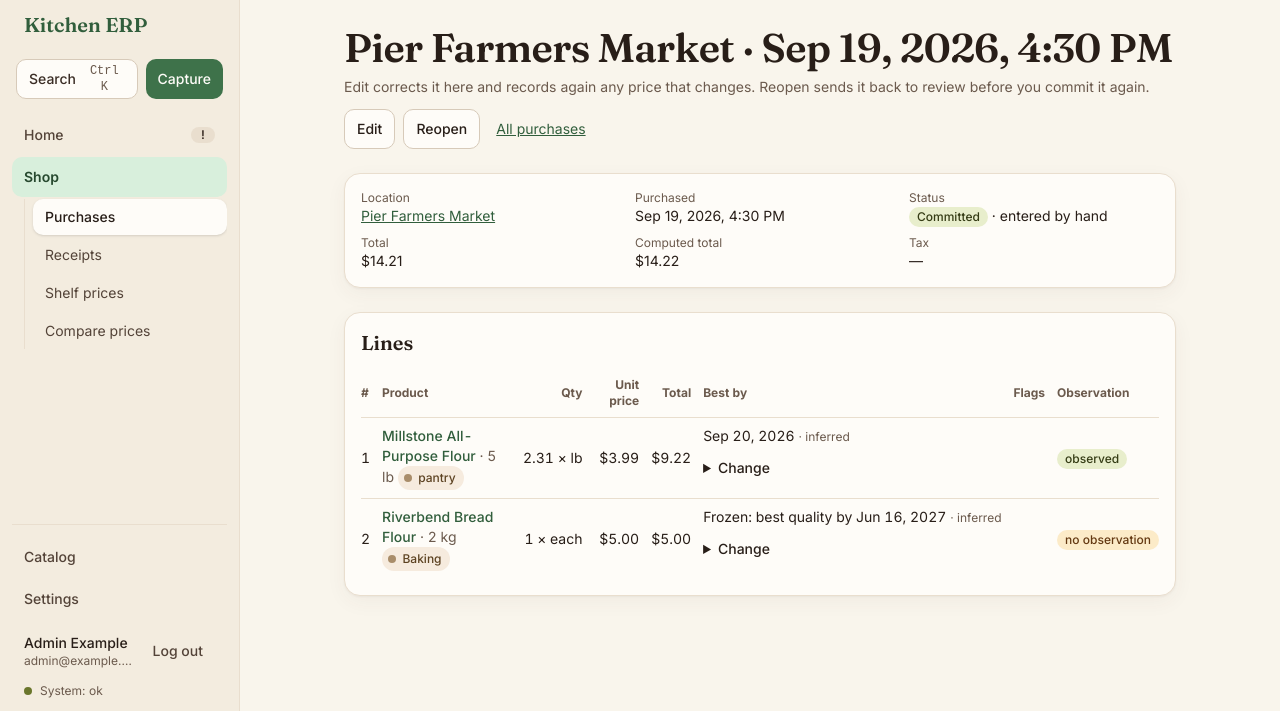
Test case: best-by dates › sends a printed use-by date for a line
Click the heading "Change" below "Sep 20, 2026": (744, 468) x1=718 y1=459 x2=770 y2=476
(page scrolled)
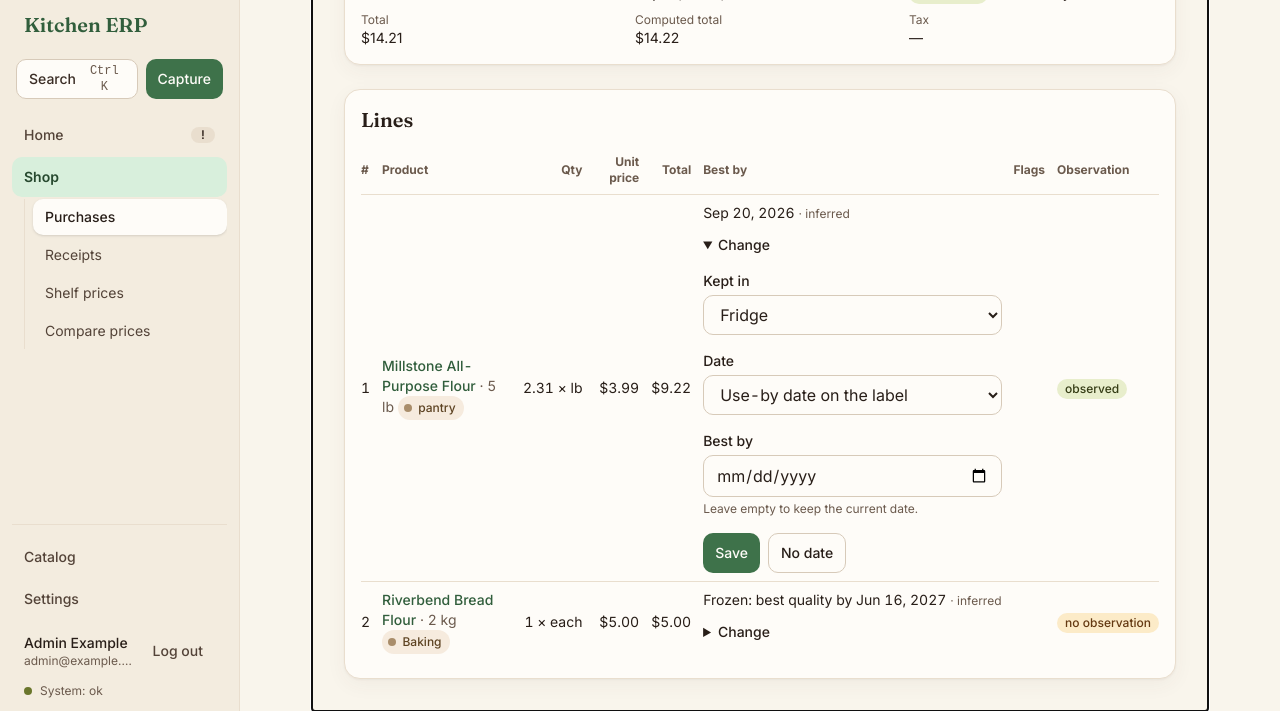
In the date field labelled "Best by": (852, 476) x1=703 y1=455 x2=1002 y2=497, type "2026-09-22"
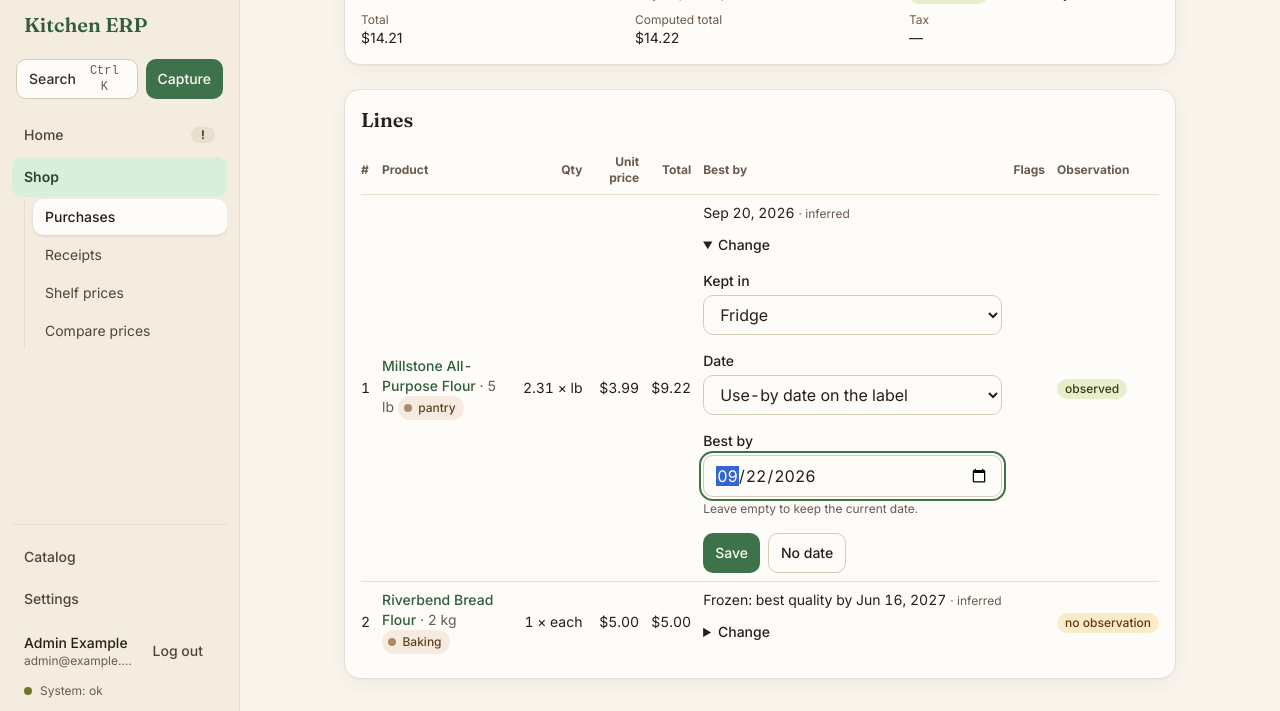
Click the button "Save": (732, 553) x1=703 y1=533 x2=760 y2=573
(page scrolled)
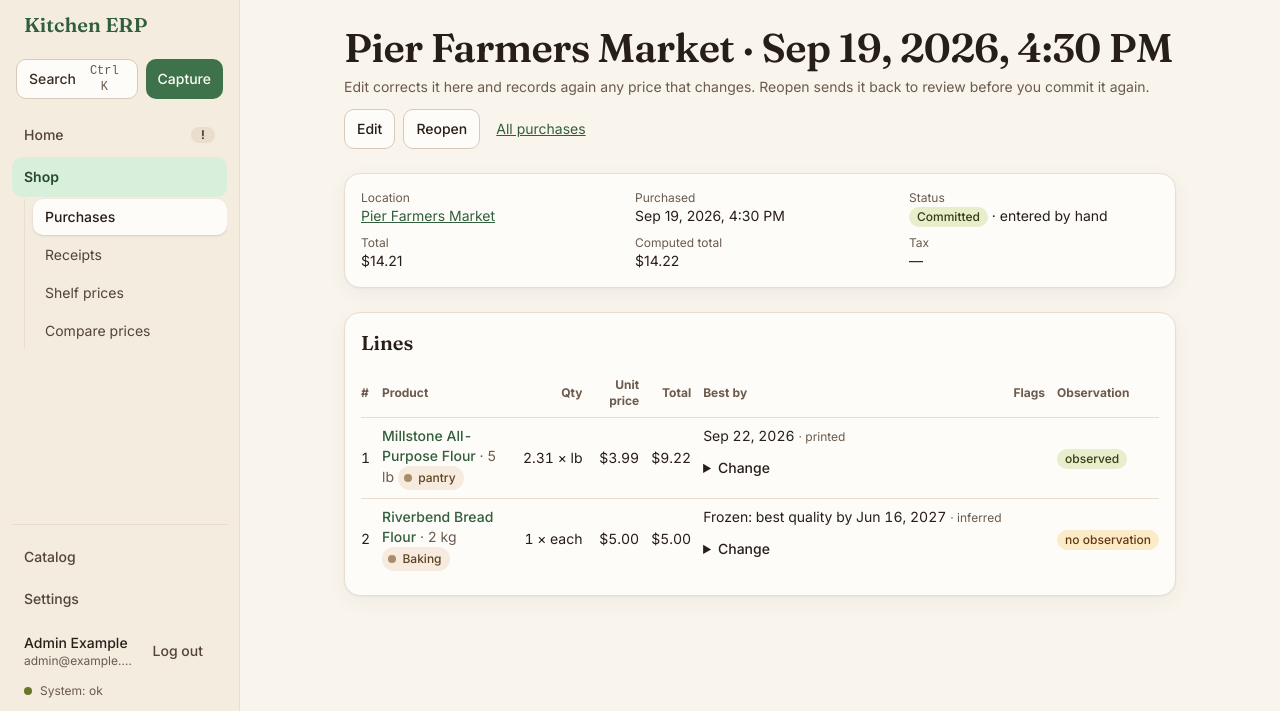
Check: the row that starts with "Millstone All-Purpose Flour" shows "printed", box x1=805 y1=429 x2=845 y2=444
